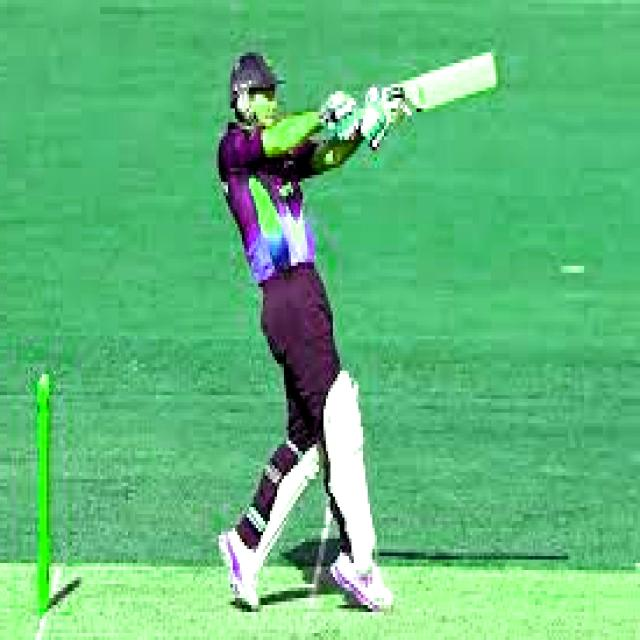toe: (490, 46, 499, 98)
